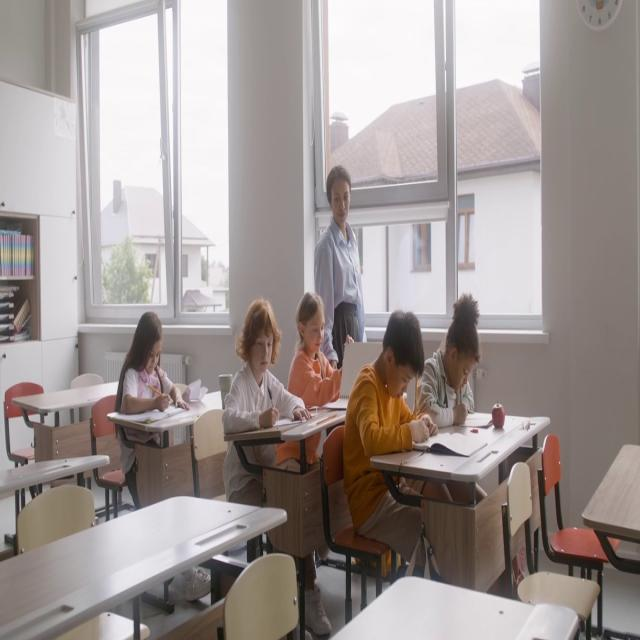reading: (291, 277, 360, 414)
writing: (343, 309, 456, 593), (114, 312, 202, 571), (220, 297, 311, 524), (417, 295, 481, 429)
